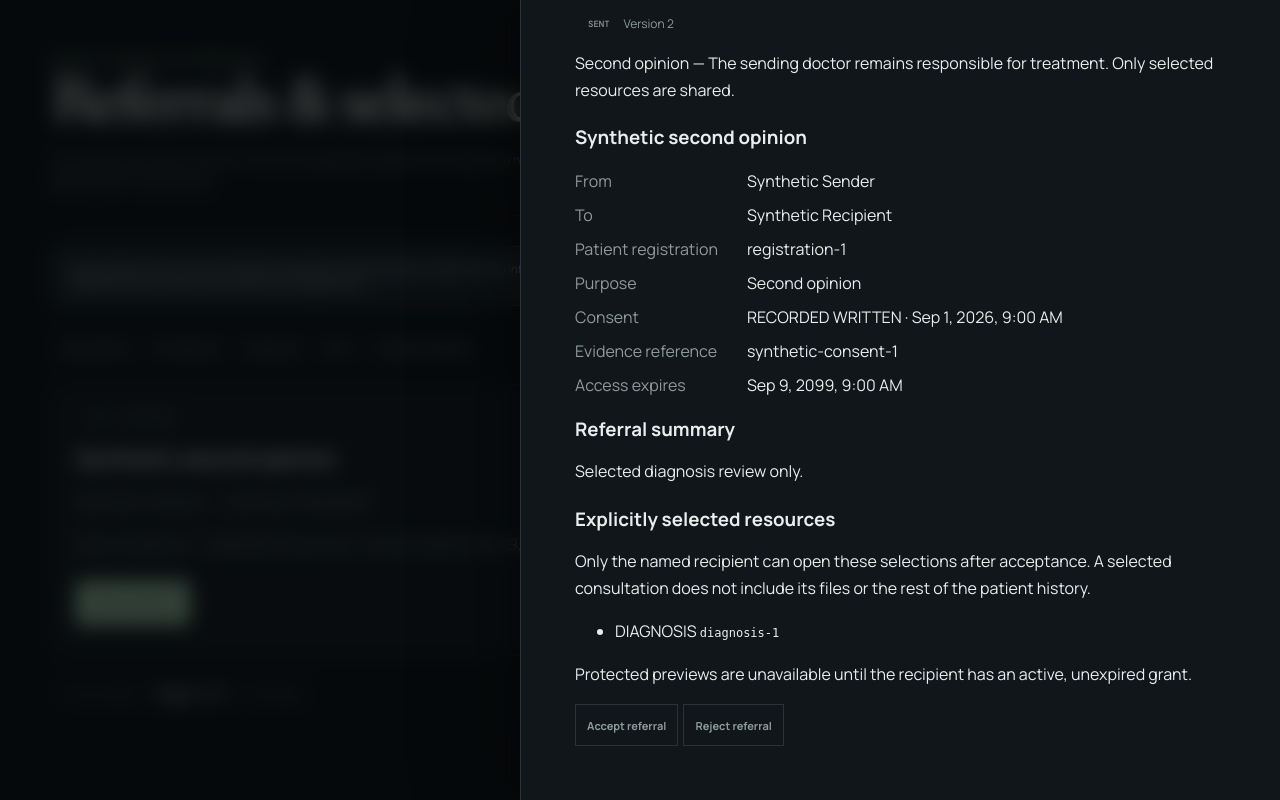
Test case: requires a reason for rejection and does not claim success on backend failure
(page scrolled)
Click the button "Reject referral" at (734, 725), box x1=683 y1=704 x2=784 y2=746
(page scrolled)
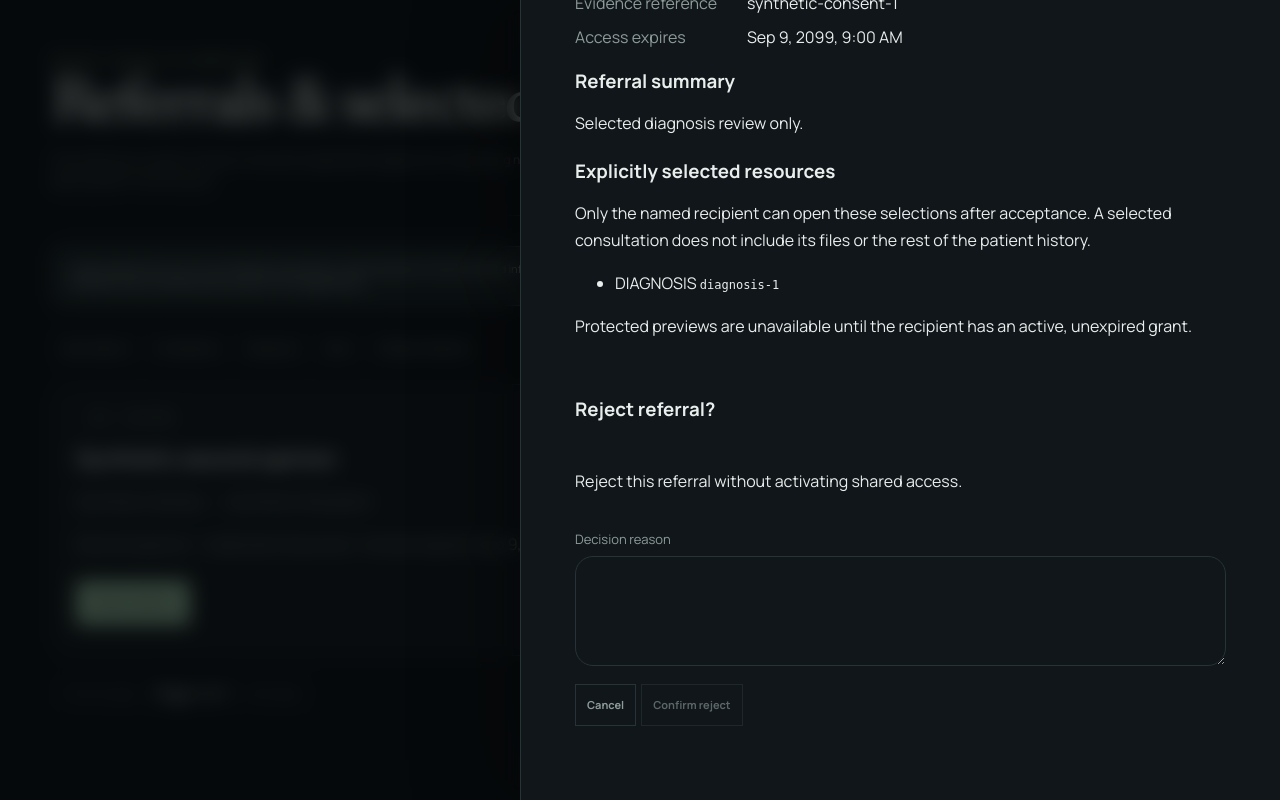
Now the button "Confirm reject" is disabled, box x1=641 y1=684 x2=743 y2=726
Type "Outside requested specialty" into the text box labelled "Decision reason" at (900, 610), box x1=575 y1=556 x2=1226 y2=666
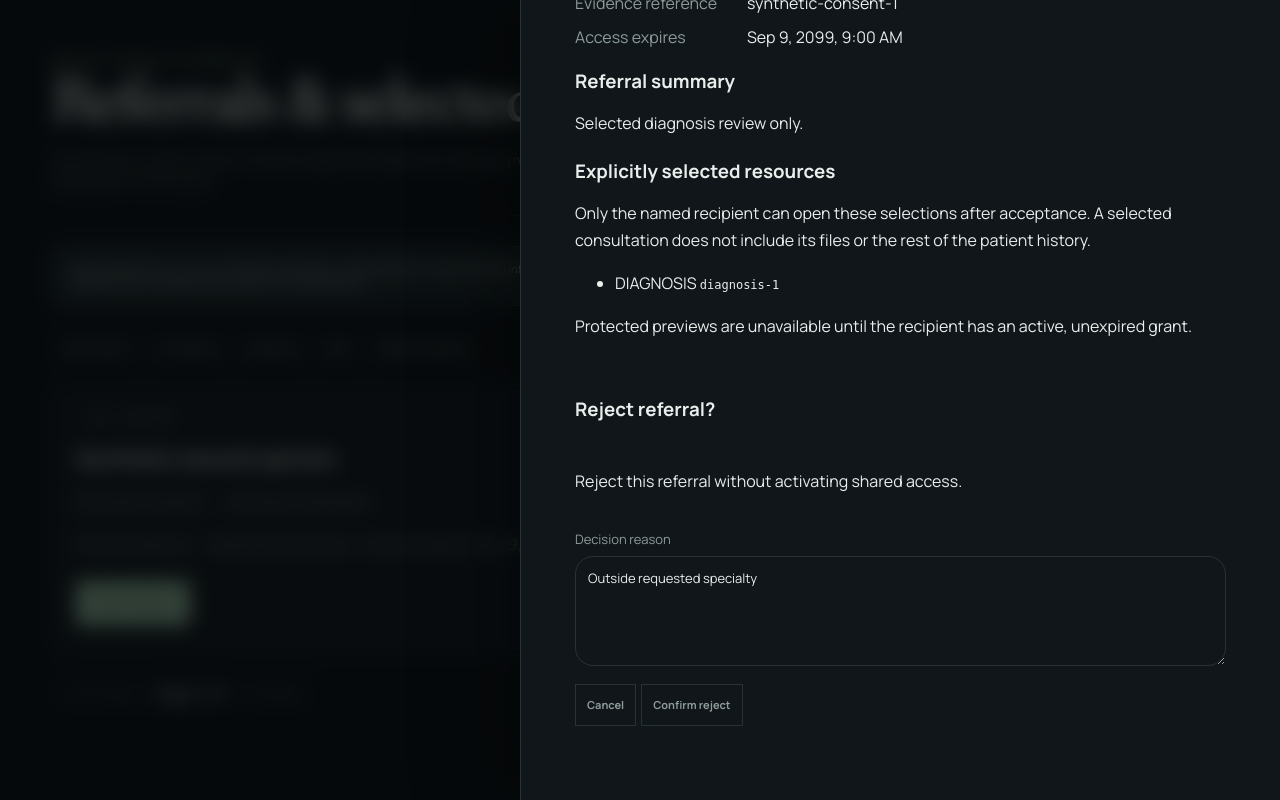
Click the button "Confirm reject" at (692, 704), box x1=641 y1=684 x2=743 y2=726
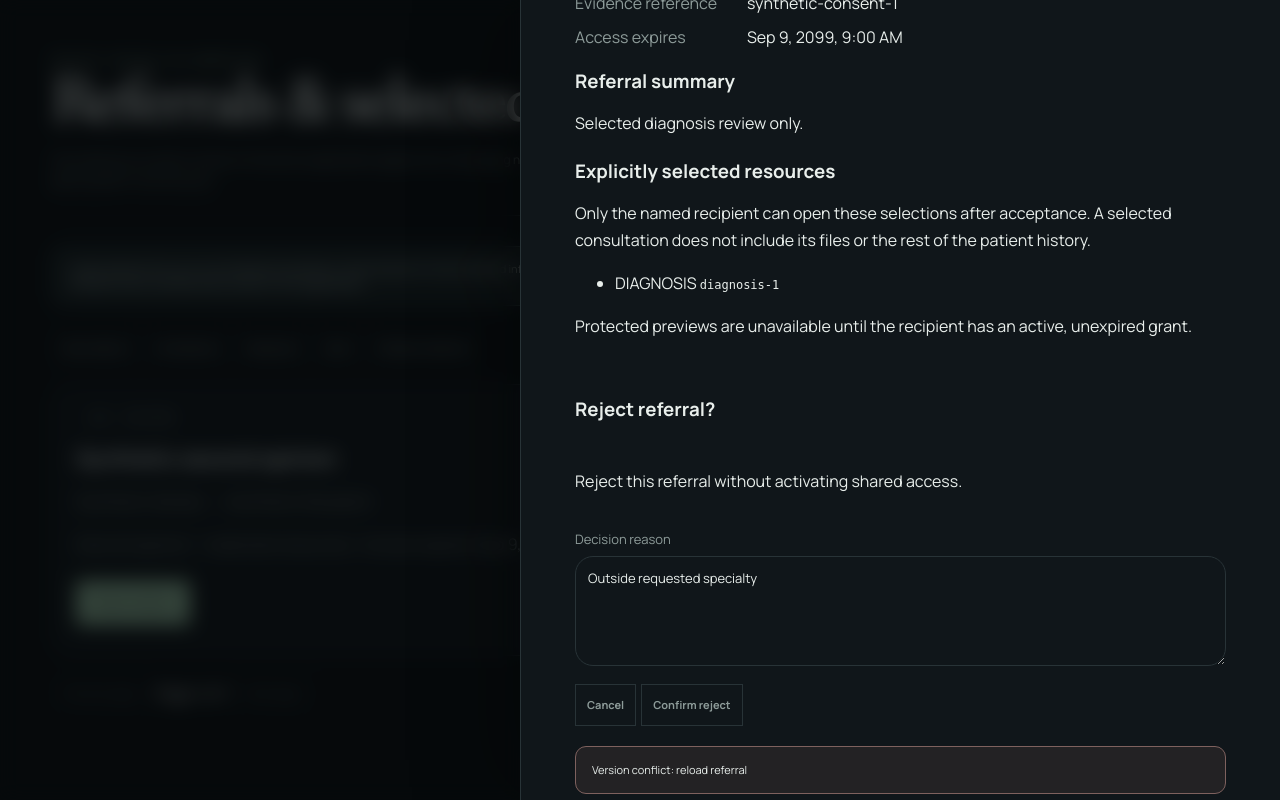
Now the message shows "Version conflict", box x1=592 y1=762 x2=747 y2=776
